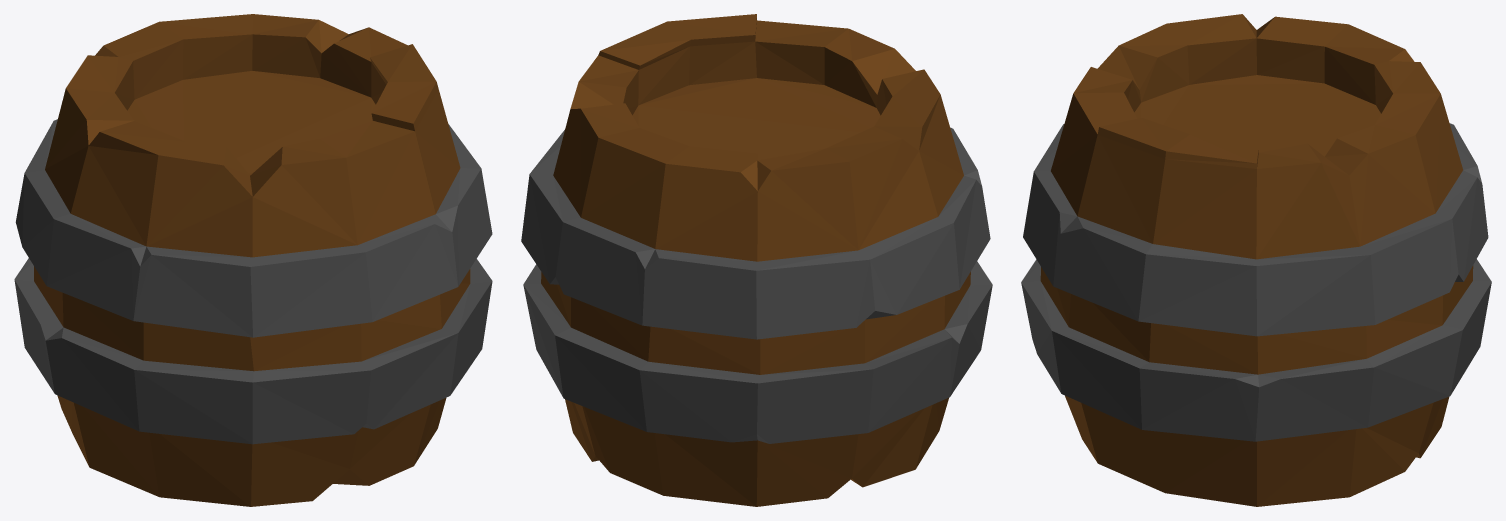
Rendered from barril.fbx.
3 views of the same model, side by side, from view 1: azimuth 30°, elevation 25°; view 2: azimuth 150°, elevation 25°; view 3: azimuth 270°, elevation 25° (orthographic).
Parts seen in each view (by area): view 1: barrel low polly; view 2: barrel low polly; view 3: barrel low polly.
Part boxes in pixels (x1,y1,x2,y2): barrel low polly: (14,14,492,506); barrel low polly: (521,14,992,506); barrel low polly: (1021,14,1491,506).
Bounding box in the file's own units: 128 × 104 × 128.
